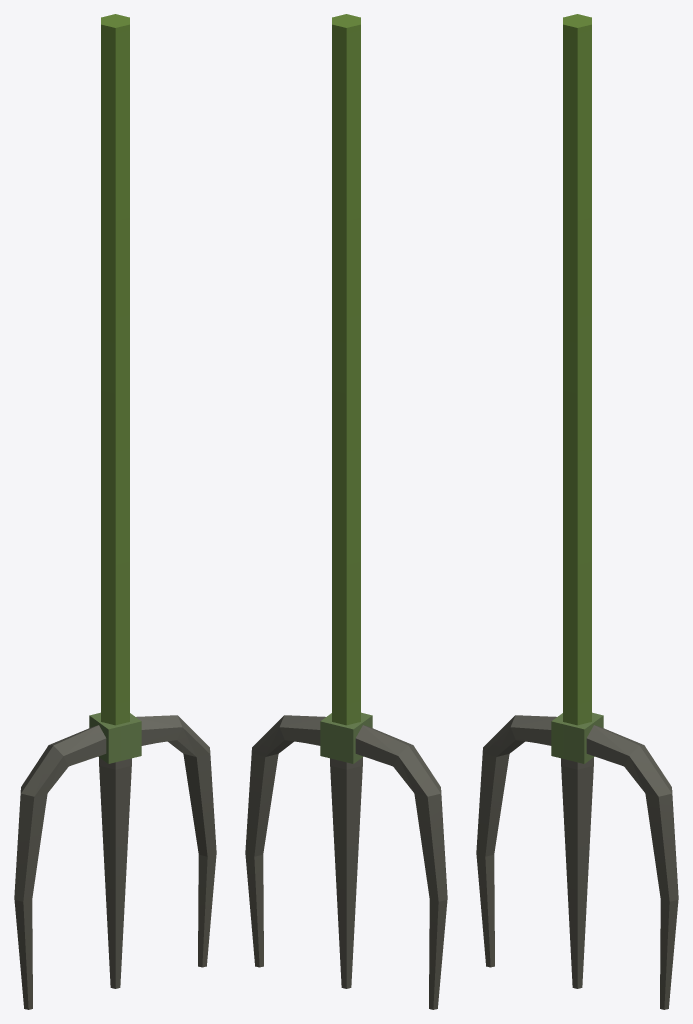
Rendered from Rake_02.fbx.
The picture shows the model from 3 angles, left to right: view 1: azimuth 30°, elevation 25°; view 2: azimuth 150°, elevation 25°; view 3: azimuth 330°, elevation 25°; orthographic projection.
Visible parts, largest first — view 1: Rake_02; view 2: Rake_02; view 3: Rake_02.
Part boxes in pixels (bbox=[...]): Rake_02: bbox=[14, 14, 216, 1009]; Rake_02: bbox=[245, 14, 447, 1009]; Rake_02: bbox=[476, 14, 678, 1009].
Size of the model in its own units: 0.3208 by 1.47 by 0.0526.
